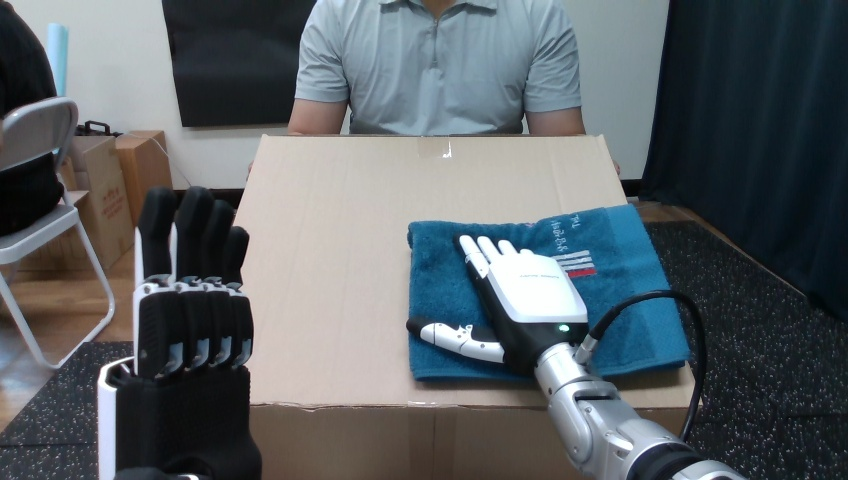left robot hand: (406, 234, 744, 479), (98, 187, 260, 478), (588, 297, 697, 437)
